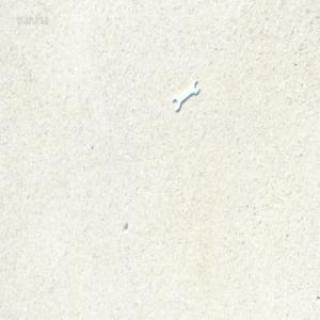Wrenchtrack_idkeyframe: (172, 82, 198, 112)
